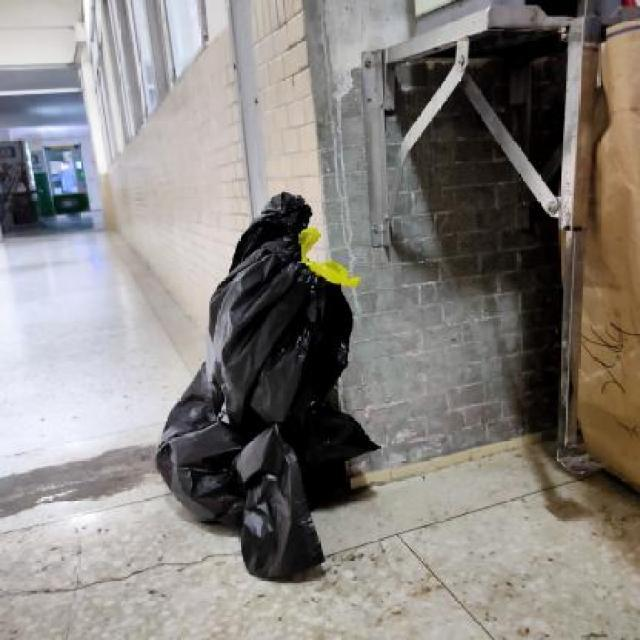waste: (130, 160, 418, 597), (137, 175, 390, 592)
